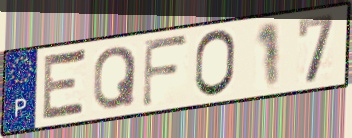1: (253, 19, 282, 91)
7: (296, 11, 337, 86)
E: (40, 46, 90, 124)
F: (140, 33, 191, 110)
O: (192, 27, 238, 99)
Q: (91, 44, 139, 112)
